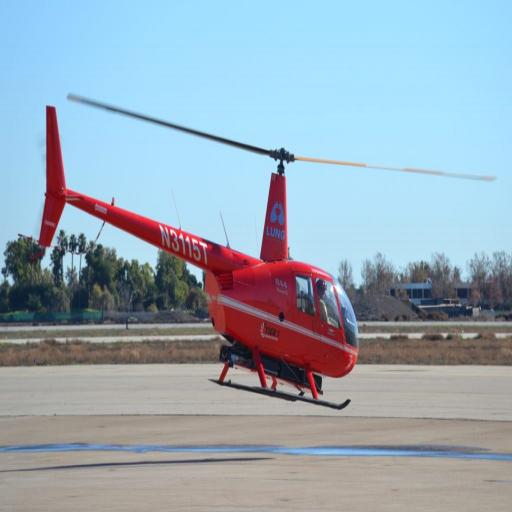helicopter: (44, 93, 497, 416)
